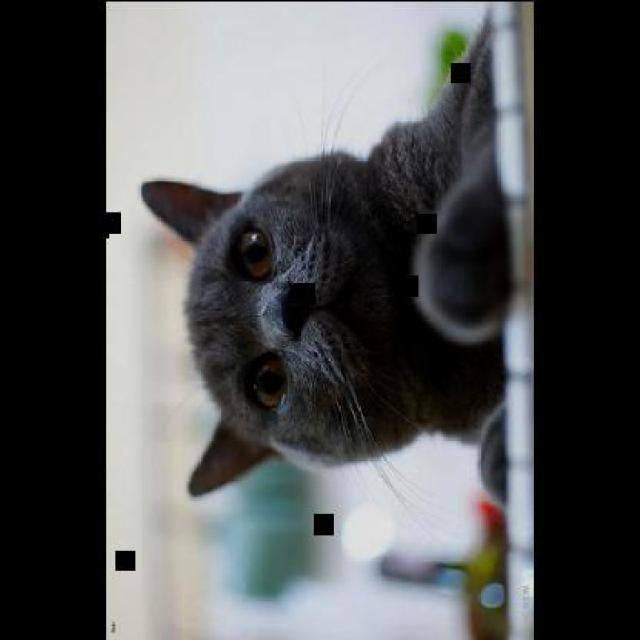unauthorized: (138, 6, 514, 528)
